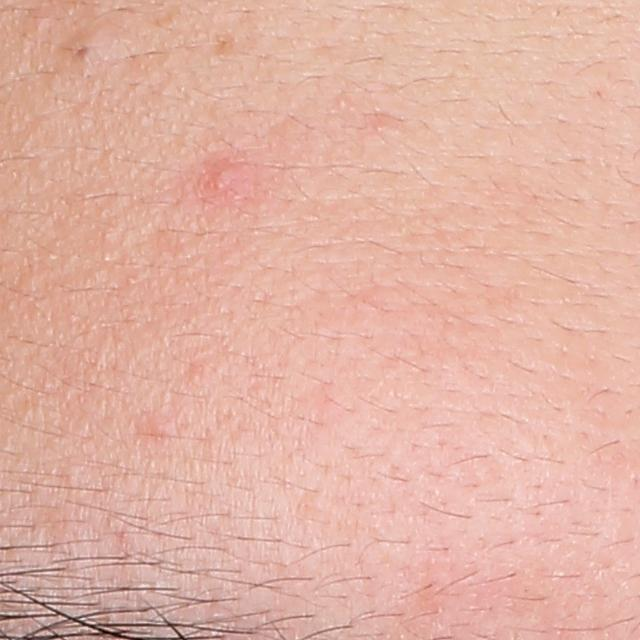comedo: (58, 33, 100, 71)
